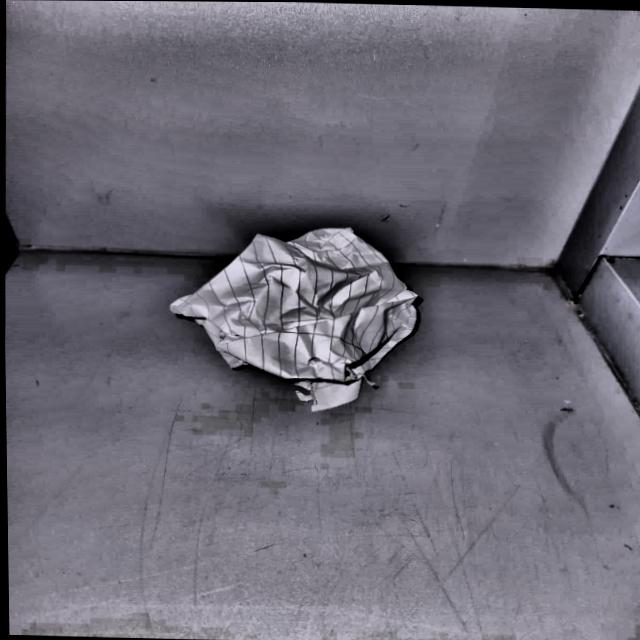Paper: (164, 216, 421, 413)
